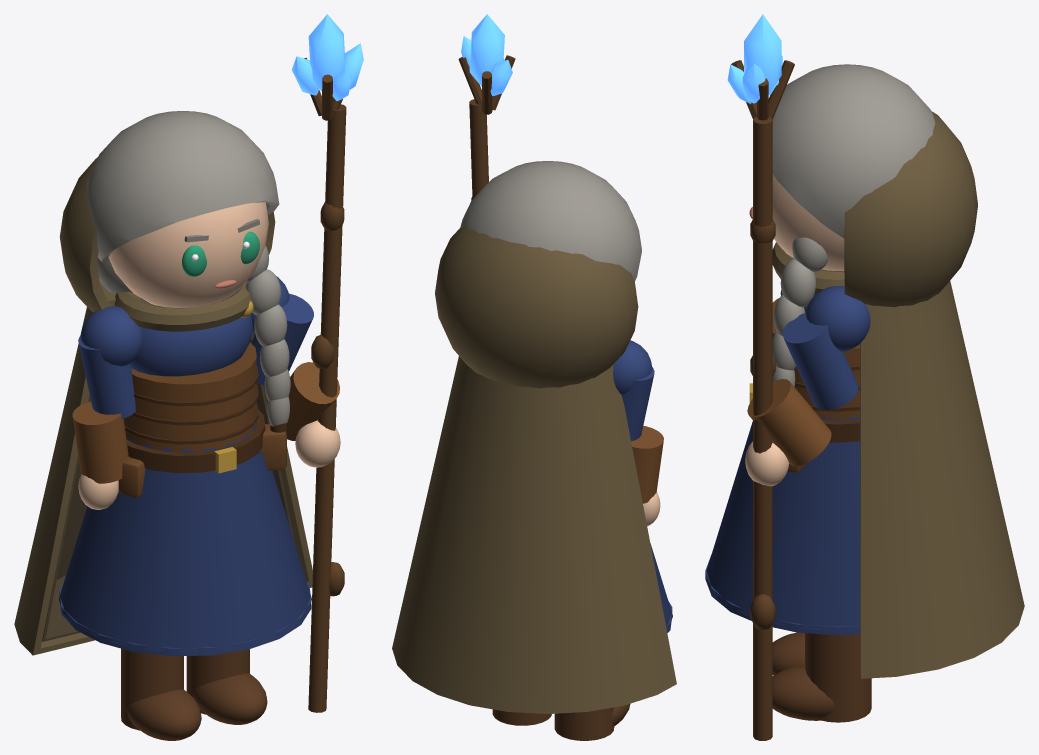
The model's file is Lyra.fbx.
3 views of the same model, side by side, from view 1: azimuth 30°, elevation 25°; view 2: azimuth 150°, elevation 25°; view 3: azimuth 270°, elevation 25° (orthographic). The views are drawn at different scales.
Visible parts, largest first — view 1: Lyra; view 2: Lyra; view 3: Lyra.
Part boxes in pixels (x1,y1,x2,y2): Lyra: [14, 14, 363, 740]; Lyra: [392, 14, 676, 740]; Lyra: [705, 14, 1024, 740].
Size of the model in its own units: 0.7018 by 1.67 by 0.6523.
